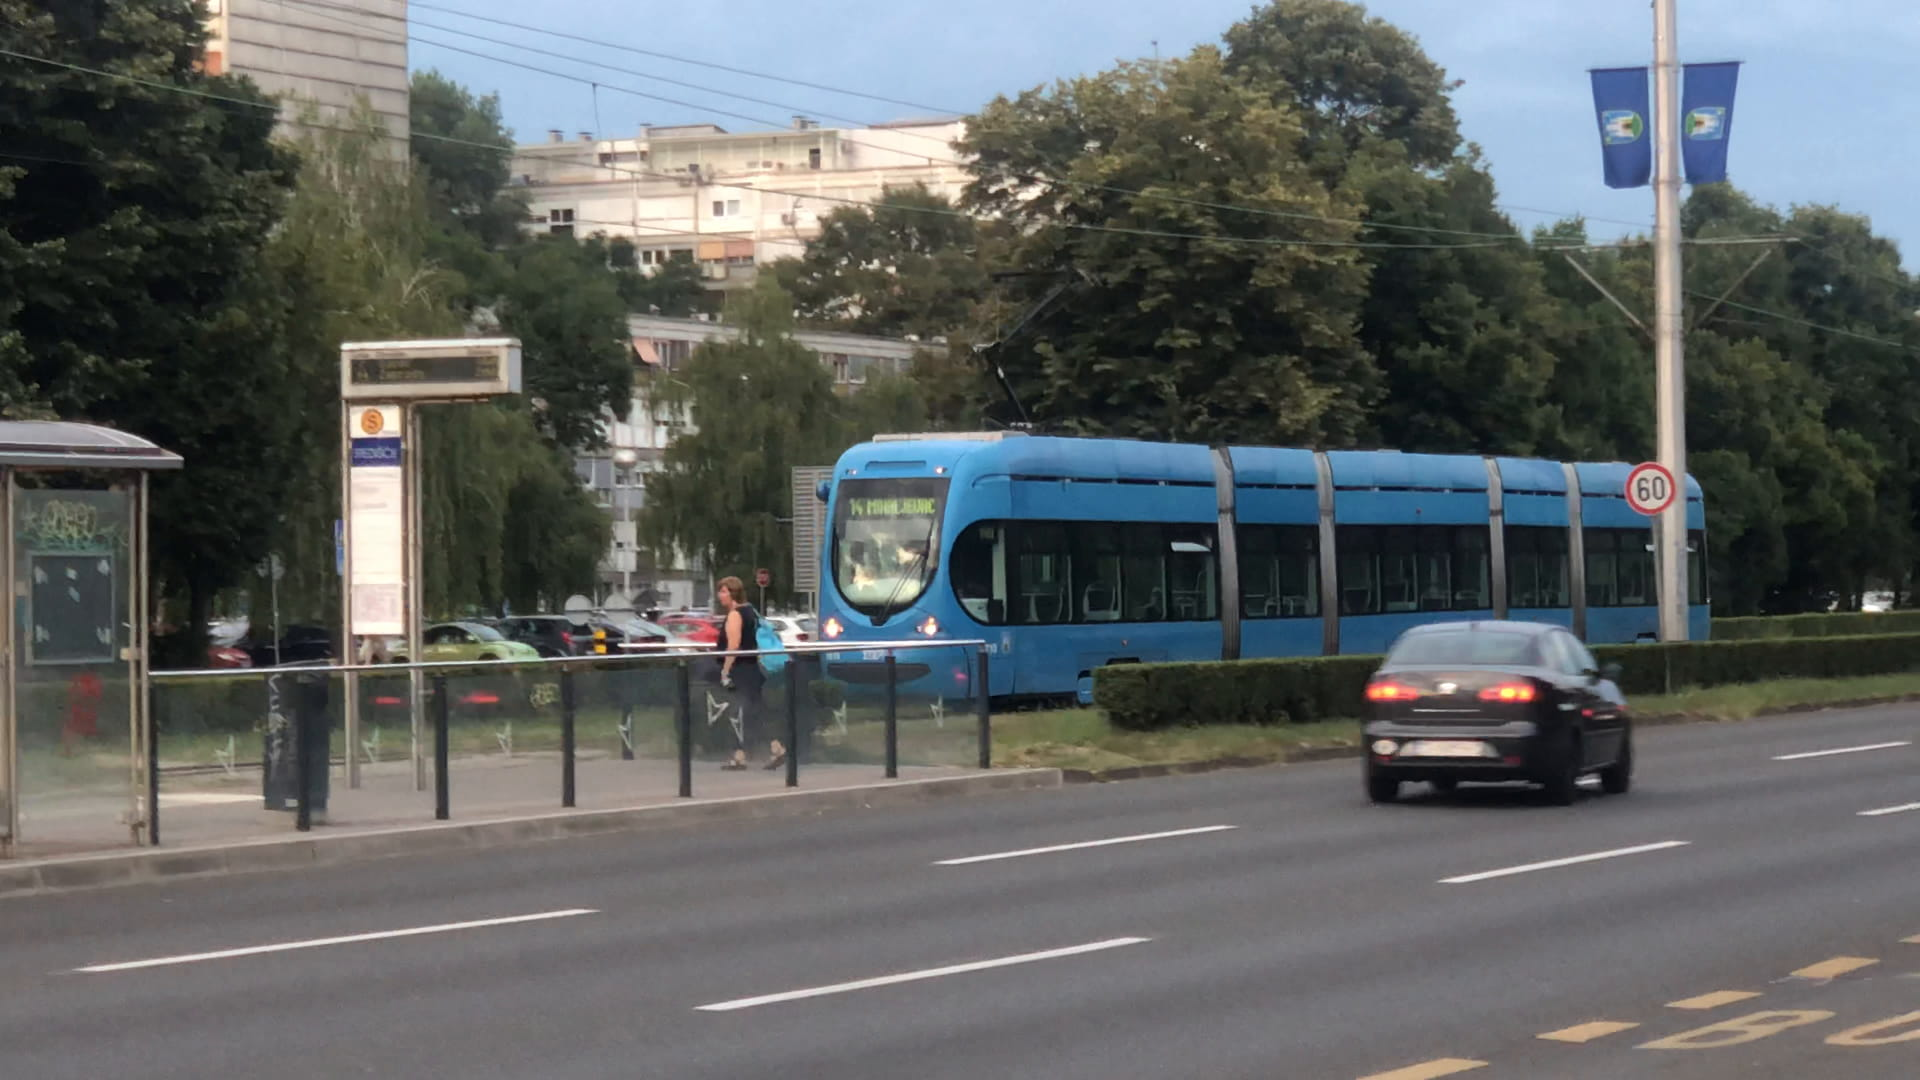tramvaj: (808, 419, 1710, 709)
